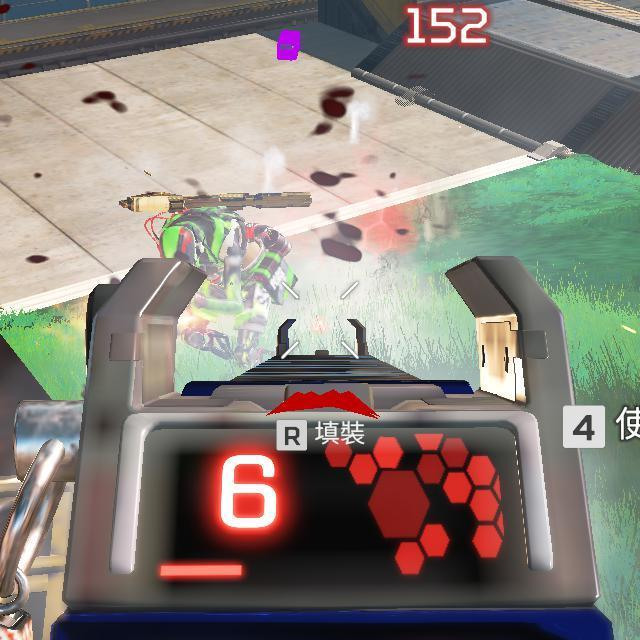avatar: (155, 202, 294, 372)
